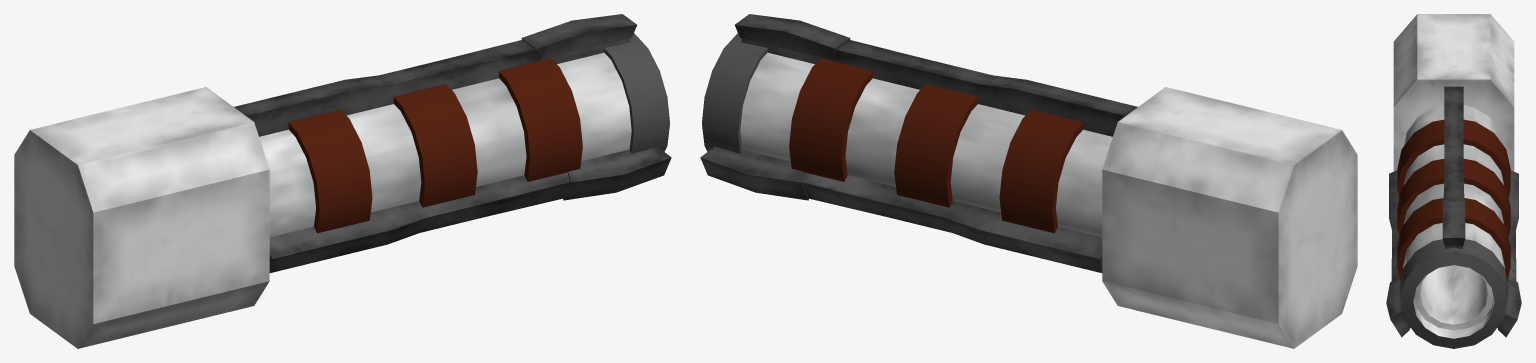
The model's file is cannonfly_torreta.fbx.
3 renders of one model, left to right at view 1: azimuth 30°, elevation 25°; view 2: azimuth 150°, elevation 25°; view 3: azimuth 270°, elevation 25°, orthographic. The views are drawn at different scales.
Visible parts, largest first — view 1: Cube.003; view 2: Cube.003; view 3: Cube.003.
Boxes of the visible parts, x1=… form: Cube.003: x1=14, y1=14, x2=671, y2=348; Cube.003: x1=700, y1=14, x2=1357, y2=348; Cube.003: x1=1386, y1=14, x2=1521, y2=348.
Size of the model in its own units: 10.11 by 2.66 by 3.03.
